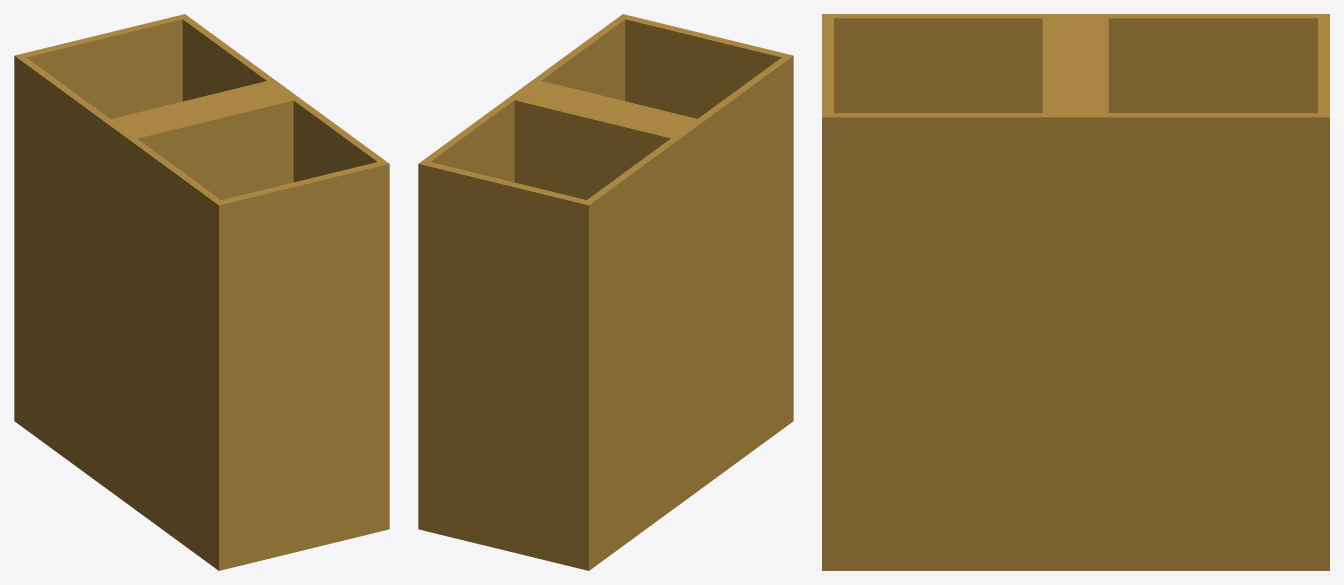
3 views of the same model, side by side, from view 1: azimuth 30°, elevation 25°; view 2: azimuth 150°, elevation 25°; view 3: azimuth 270°, elevation 25° (orthographic). The views are drawn at different scales.
Visible parts, largest first — view 1: Cube.002, Cube.001, Cube.006, Cube.005, Cube.004; view 2: Cube.002, Cube.005, Cube.006, Cube.001, Cube.004; view 3: Cube.004, Cube.002, Cube.001, Cube.005, Cube.006.
Boxes of the visible parts, box(x1,y1,x2,y2) form: Cube.002: box(19, 57, 220, 566); Cube.001: box(214, 160, 389, 570); Cube.006: box(111, 81, 293, 199); Cube.005: box(14, 14, 189, 424); Cube.004: box(182, 17, 384, 182); Cube.002: box(587, 57, 788, 566); Cube.005: box(418, 160, 593, 570); Cube.006: box(514, 81, 696, 199); Cube.001: box(618, 14, 793, 424); Cube.004: box(423, 17, 625, 182); Cube.004: box(834, 113, 1317, 570); Cube.002: box(834, 14, 1317, 112); Cube.001: box(822, 14, 833, 570); Cube.005: box(1318, 14, 1329, 570); Cube.006: box(1042, 18, 1108, 112).
Size of the model in its own units: 0.08 by 0.1638 by 0.1662.
